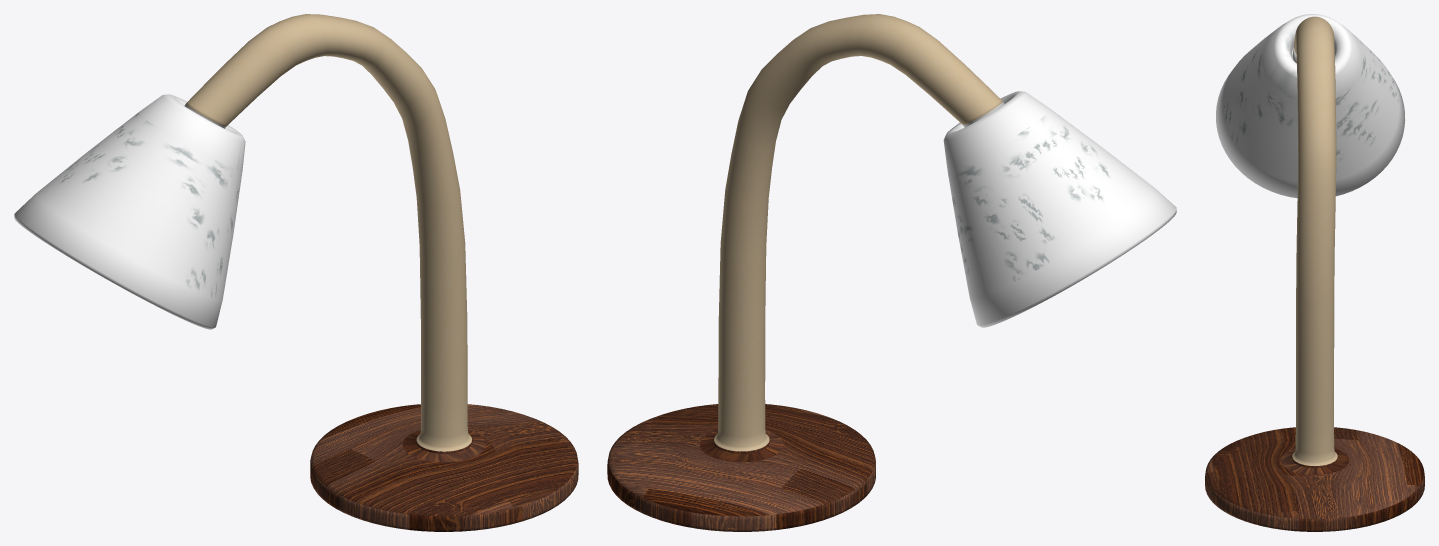
File: DeskLampV1.glb
The picture shows the model from 3 angles, left to right: view 1: azimuth 30°, elevation 25°; view 2: azimuth 150°, elevation 25°; view 3: azimuth 270°, elevation 25°; orthographic projection. The views are drawn at different scales.
Parts seen in each view (by area): view 1: Circle.003; view 2: Circle.003; view 3: Circle.003.
Boxes of the visible parts, left/top/right/bottom form: Circle.003: left=14, top=14, right=578, bottom=531; Circle.003: left=607, top=14, right=1176, bottom=531; Circle.003: left=1205, top=14, right=1424, bottom=531.
Bounding box in the file's own units: 0.405 × 0.3608 × 0.1776.
6 materials, 4 textured.
